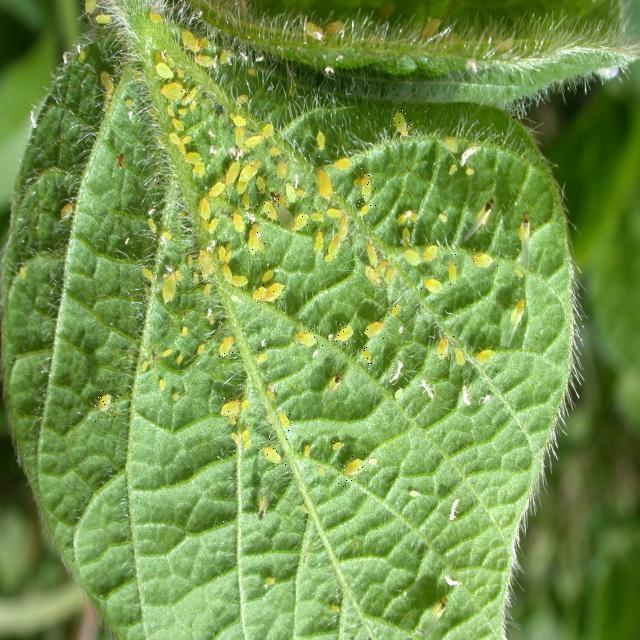aphid: (335, 452, 374, 494), (291, 328, 323, 360), (258, 438, 288, 471), (256, 193, 282, 230), (245, 221, 266, 264), (356, 167, 379, 206), (156, 80, 190, 106), (469, 247, 499, 276), (390, 105, 413, 142), (239, 156, 264, 190), (95, 388, 119, 422), (222, 150, 242, 190), (216, 330, 237, 368), (333, 320, 358, 350), (364, 313, 388, 343), (264, 280, 284, 315), (435, 328, 454, 364), (203, 177, 229, 203), (419, 275, 446, 300), (216, 395, 240, 421), (422, 241, 446, 266), (476, 346, 499, 372), (290, 211, 312, 238), (312, 221, 326, 260), (446, 253, 458, 296), (278, 406, 294, 438), (455, 342, 470, 376), (252, 343, 271, 369), (314, 128, 330, 157), (154, 59, 174, 82), (388, 298, 405, 324), (359, 345, 376, 370), (249, 284, 271, 303), (329, 436, 342, 456)
